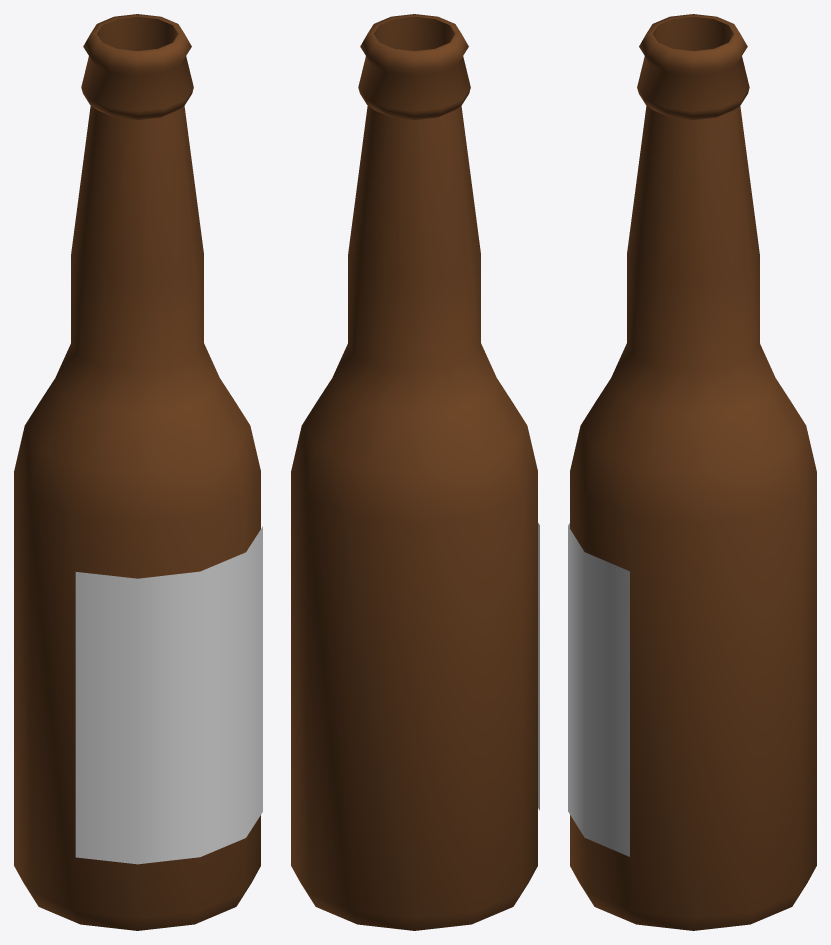
The model's file is JamPre_low_poly_open_beer_bottle.fbx.
The picture shows the model from 3 angles, left to right: view 1: azimuth 30°, elevation 25°; view 2: azimuth 150°, elevation 25°; view 3: azimuth 270°, elevation 25°; orthographic projection.
Visible parts, largest first — view 1: Beer; view 2: Beer; view 3: Beer.
Part boxes in pixels (bbox=[...]): Beer: bbox=[14, 14, 262, 930]; Beer: bbox=[291, 14, 539, 930]; Beer: bbox=[568, 14, 816, 930].
Bounding box in the file's own units: 113 × 427 × 114.
